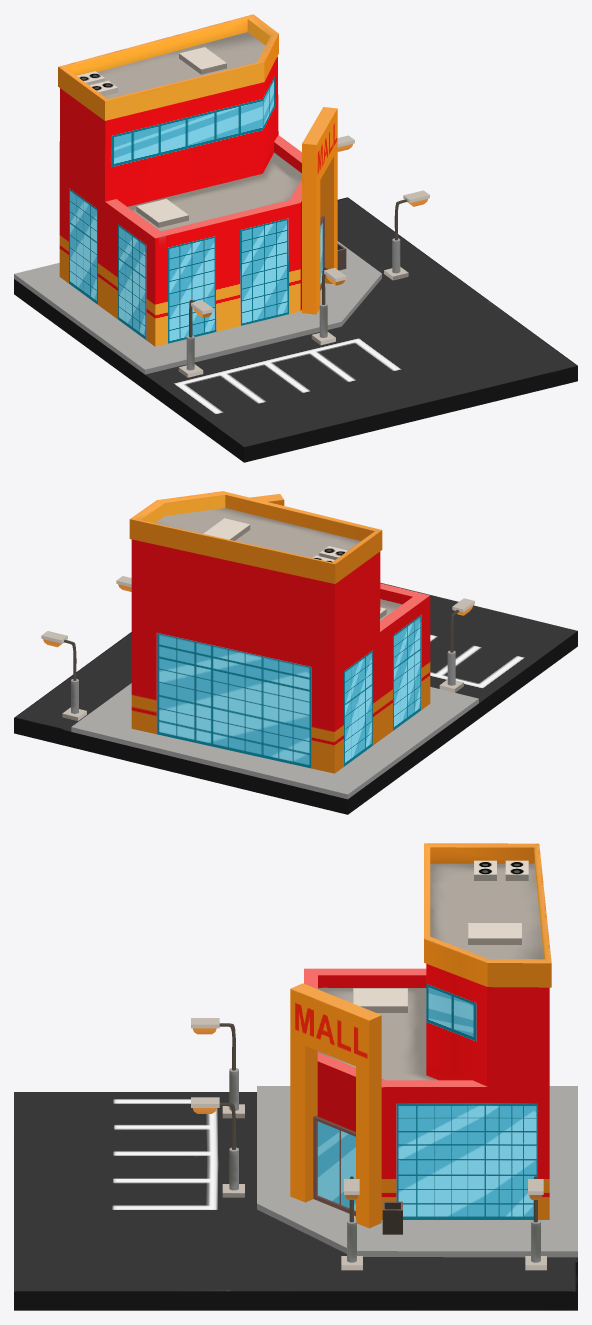
Rendered from mall.glb.
3 views of the same model, one above another, from view 1: azimuth 30°, elevation 25°; view 2: azimuth 150°, elevation 25°; view 3: azimuth 270°, elevation 25° (orthographic). The views are drawn at different scales.
Parts seen in each view (by area): view 1: Object_2; view 2: Object_2; view 3: Object_2.
Part boxes in pixels (x1,y1,x2,y2): Object_2: (14,14,577,462); Object_2: (14,491,577,814); Object_2: (14,843,577,1310).
Size of the model in its own units: 126 by 83.56 by 150.
Materials: 1 (1 with a texture image).
